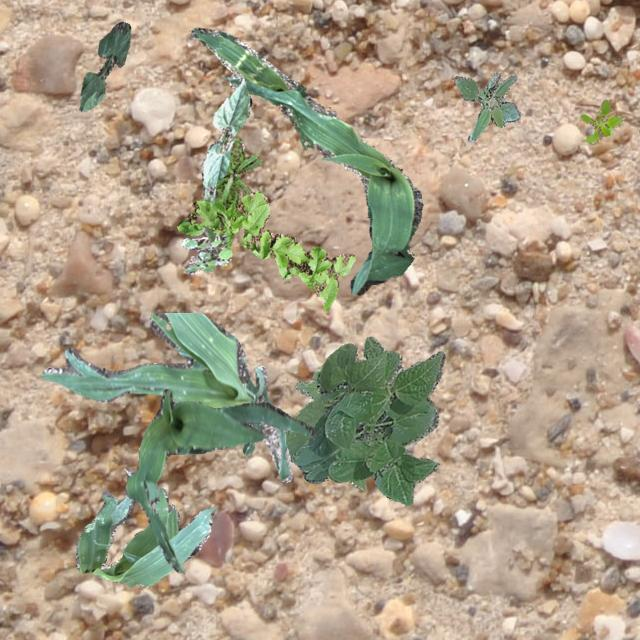crop: (190, 27, 422, 294), (40, 312, 292, 482), (124, 388, 314, 572), (284, 336, 444, 504), (74, 468, 214, 586), (294, 369, 364, 488), (200, 76, 250, 202), (78, 21, 130, 110)
weed: (176, 190, 354, 310), (452, 72, 520, 140), (214, 138, 260, 208), (180, 225, 232, 272), (580, 99, 622, 142)
